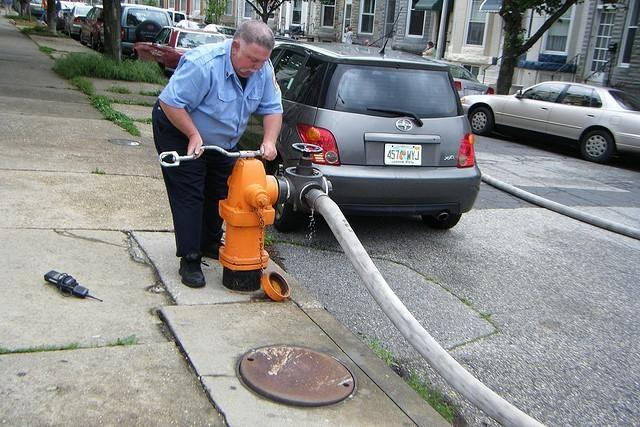car: (234, 7, 481, 233), (461, 80, 640, 162), (126, 21, 220, 72), (426, 57, 497, 104), (120, 4, 172, 46), (79, 5, 104, 50), (64, 5, 93, 37), (202, 24, 237, 39), (164, 10, 187, 28)
